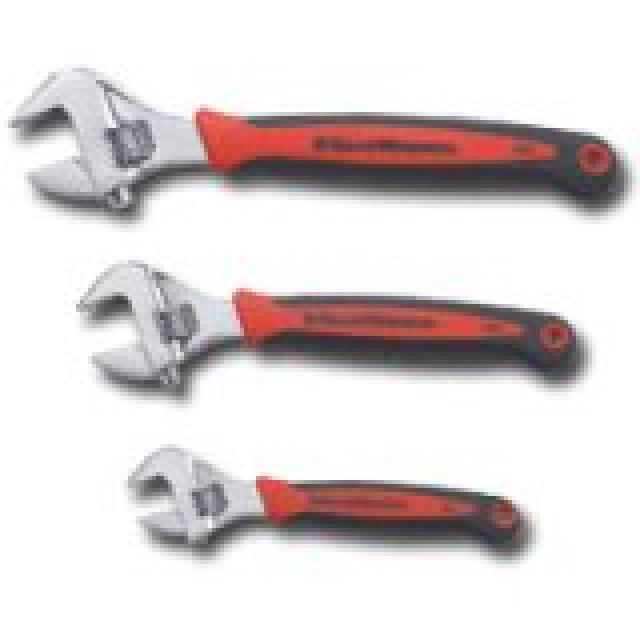wrench: (10, 57, 631, 244), (62, 243, 603, 414), (109, 432, 554, 584)
